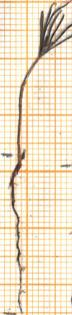flower: (26, 0, 72, 59)
root: (7, 155, 30, 315)
stem: (11, 59, 46, 156)
